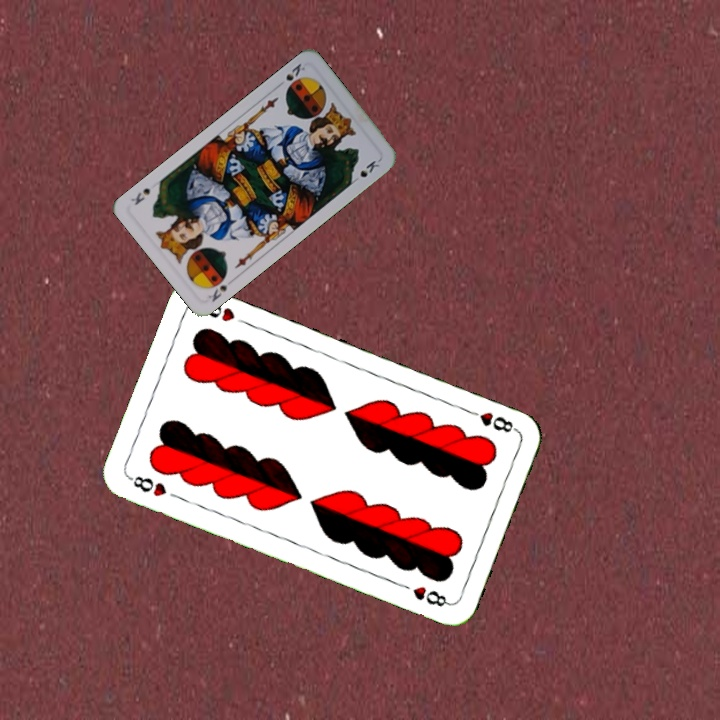H8: (463, 405, 520, 436), (125, 471, 170, 499)
SK: (204, 270, 237, 305), (282, 59, 308, 92)
